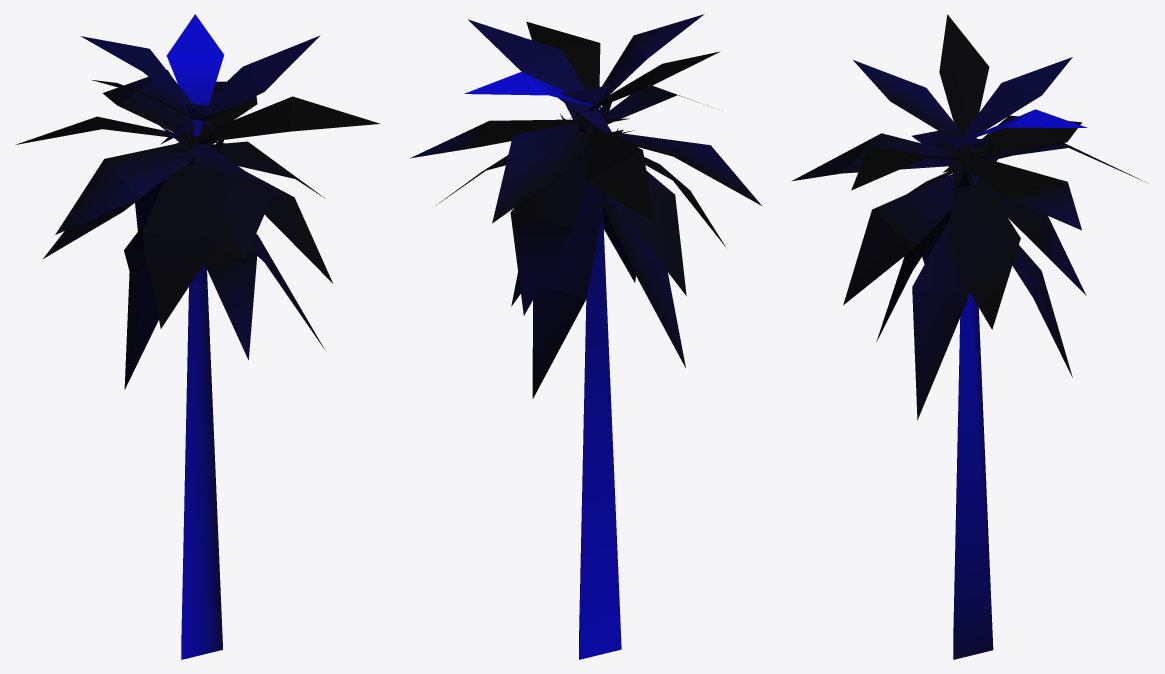
3 renders of one model, left to right at view 1: azimuth 30°, elevation 25°; view 2: azimuth 150°, elevation 25°; view 3: azimuth 270°, elevation 25°, orthographic. The views are drawn at different scales.
Parts seen in each view (by area): view 1: 7; view 2: 7; view 3: 7.
Boxes of the visible parts, <box> form: 7: <box>15,14,380,659</box>; 7: <box>410,14,761,659</box>; 7: <box>791,14,1145,659</box>.
Size of the model in its own units: 0.6905 by 1.34 by 0.7488.
